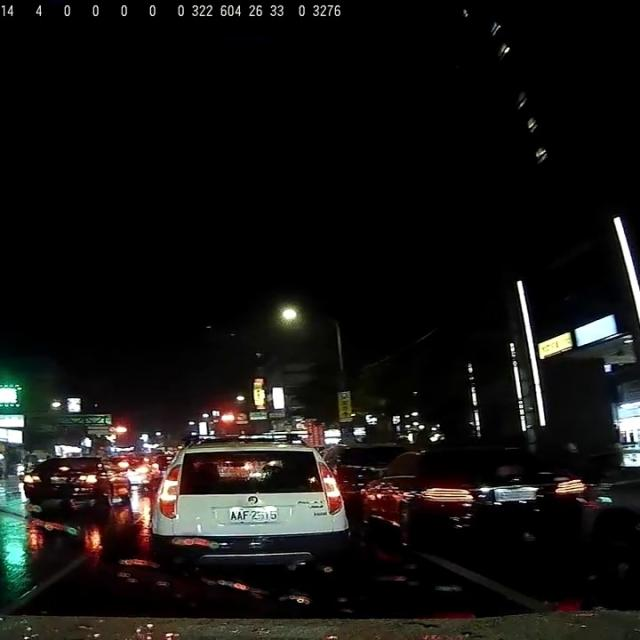Car: (149, 433, 350, 579), (358, 440, 588, 543), (18, 453, 133, 508), (312, 442, 404, 508), (115, 458, 153, 488), (152, 451, 177, 479)
